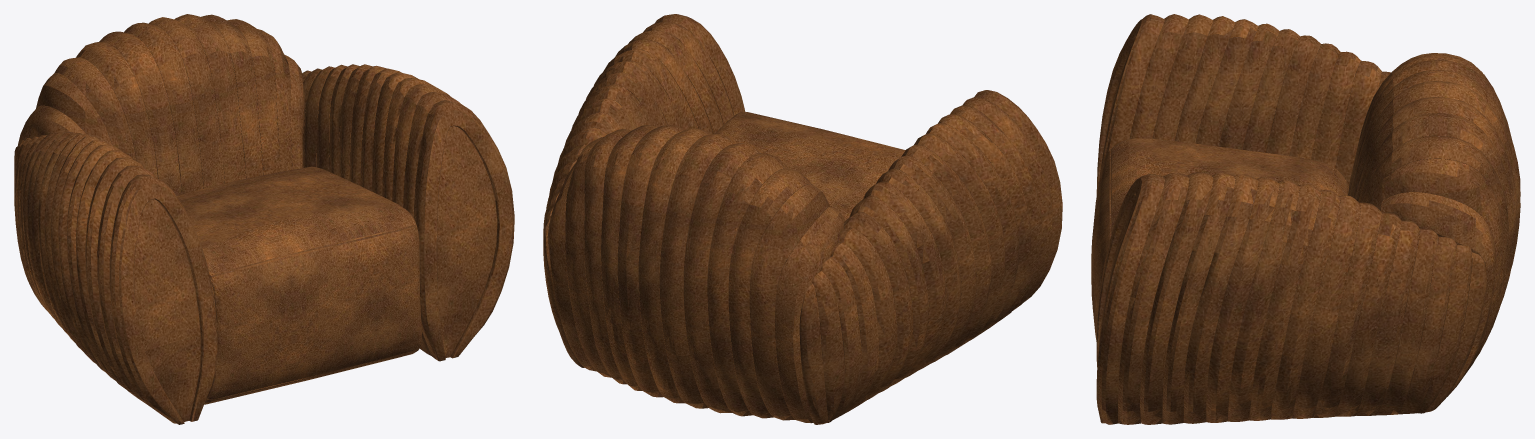
The model's file is poltrona.glb.
3 views of the same model, side by side, from view 1: azimuth 30°, elevation 25°; view 2: azimuth 150°, elevation 25°; view 3: azimuth 270°, elevation 25° (orthographic). The views are drawn at different scales.
Parts seen in each view (by area): view 1: Group1; view 2: Group1; view 3: Group1.
Part boxes in pixels (x1=…): Group1: x1=14, y1=14, x2=514, y2=424; Group1: x1=543, y1=14, x2=1062, y2=424; Group1: x1=1091, y1=14, x2=1520, y2=424.
Size of the model in its own units: 1.19 by 0.7091 by 1.01.
2 materials, 2 textured.
